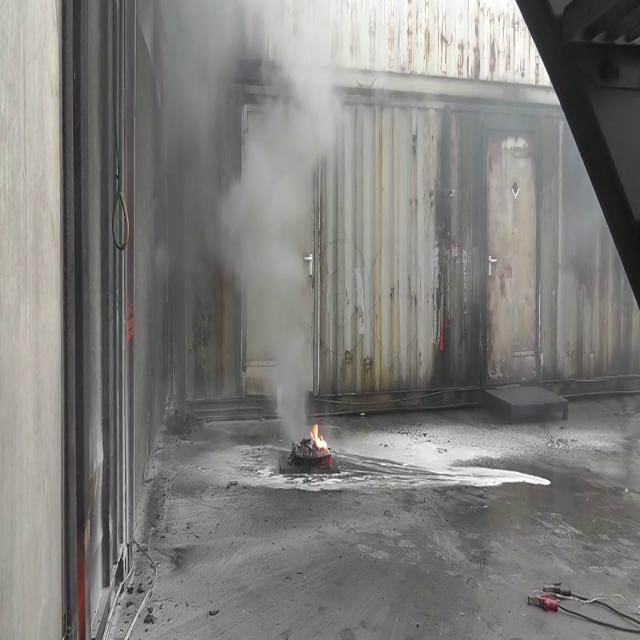Fire: (307, 416, 332, 460)
Smoke: (140, 1, 334, 436)
